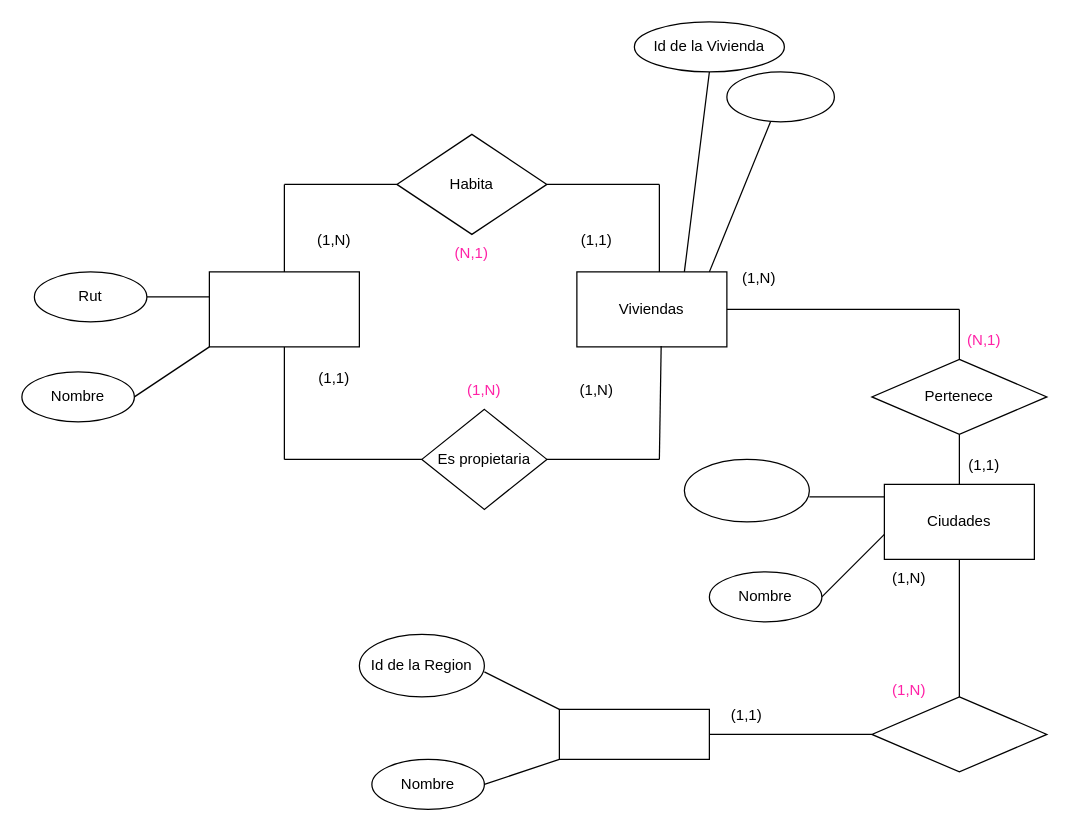
Image size: 1069x831. Some labels were removed from this diagram. Each missing label, with the centre of its shape:
"Direccion" belongs at (x=780, y=96).
"Estan" belongs at (x=959, y=734).
"Id de la Ciudad" belongs at (x=746, y=490).
"Personas" belongs at (x=283, y=309).
"Regiones" belongs at (x=633, y=733).
